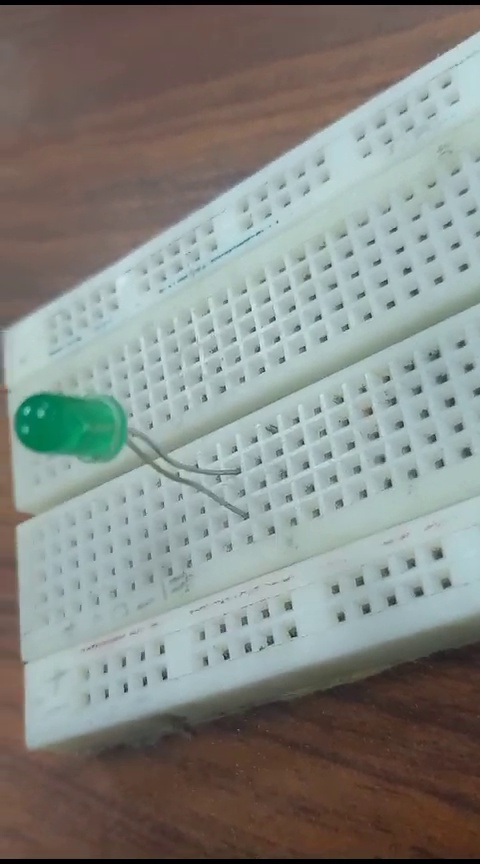LED: (11, 391, 243, 513)
